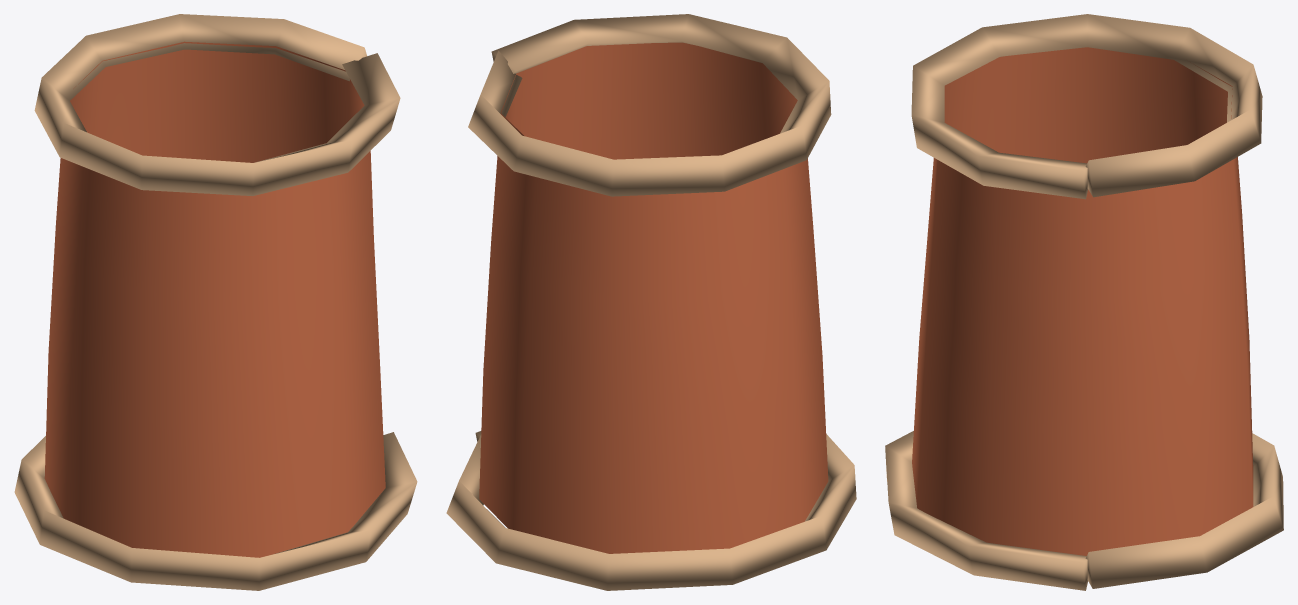
Rendered from palladium_armor_bracer.L.glb.
3 renders of one model, left to right at view 1: azimuth 30°, elevation 25°; view 2: azimuth 150°, elevation 25°; view 3: azimuth 270°, elevation 25°, orthographic.
Visible parts, largest first — view 1: palladium_armor_bracer.L; view 2: palladium_armor_bracer.L; view 3: palladium_armor_bracer.L.
Boxes of the visible parts, left/top/right/bottom form: palladium_armor_bracer.L: left=14, top=14, right=417, bottom=590; palladium_armor_bracer.L: left=446, top=14, right=856, bottom=590; palladium_armor_bracer.L: left=885, top=14, right=1283, bottom=590.
Bounding box in the file's own units: 0.1504 × 0.1719 × 0.1471.
